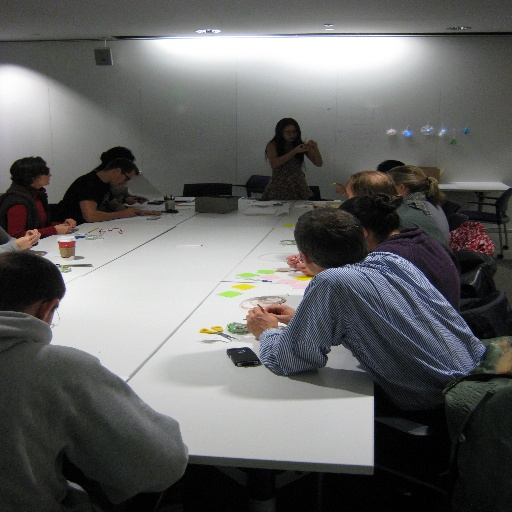hand: (263, 303, 296, 326), (12, 233, 39, 251), (294, 263, 314, 276), (332, 179, 345, 197), (55, 222, 73, 234), (138, 208, 164, 216), (292, 141, 308, 154), (285, 254, 298, 268), (136, 194, 151, 204), (306, 139, 318, 151), (25, 227, 39, 237), (124, 207, 139, 216), (127, 196, 138, 206), (64, 220, 75, 228)
